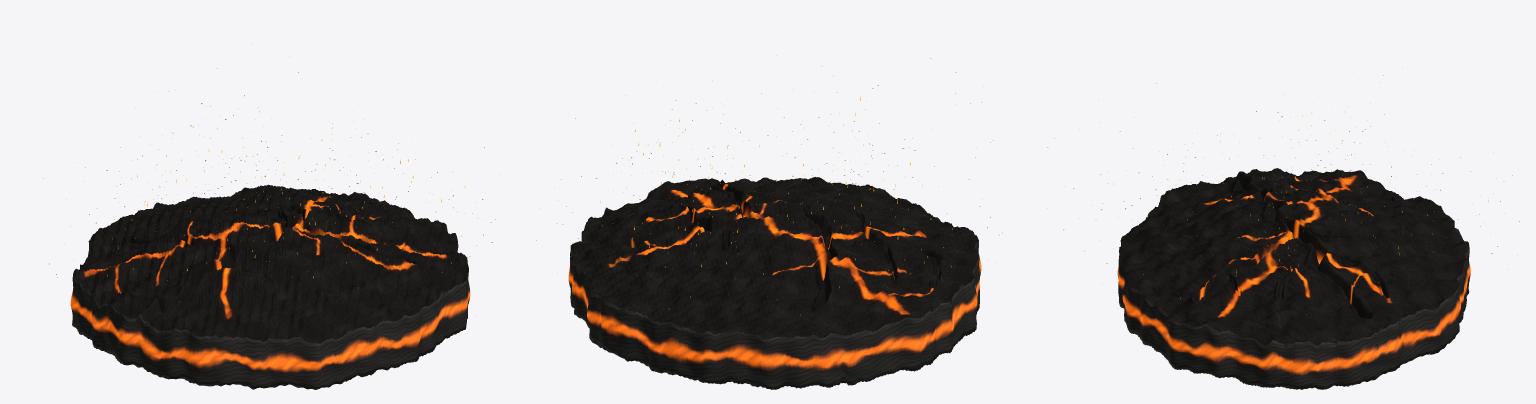
Rendered from Vesuvius_V53.glb.
The picture shows the model from 3 angles, left to right: view 1: azimuth 30°, elevation 25°; view 2: azimuth 150°, elevation 25°; view 3: azimuth 270°, elevation 25°; orthographic projection. The views are drawn at different scales.
Parts seen in each view (by area): view 1: Vesuvius_V53_OrganicGeologicDisc; view 2: Vesuvius_V53_OrganicGeologicDisc; view 3: Vesuvius_V53_OrganicGeologicDisc.
Part boxes in pixels (x1,y1,x2,y2): Vesuvius_V53_OrganicGeologicDisc: (70,184,470,389); Vesuvius_V53_OrganicGeologicDisc: (568,177,981,389); Vesuvius_V53_OrganicGeologicDisc: (1117,168,1470,389).
Size of the model in its own units: 0.901 by 0.5344 by 0.9009.
5 materials, 3 textured.
